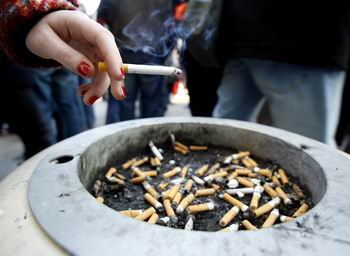cigarette: (97, 57, 184, 84)
smoke: (117, 8, 213, 58)
